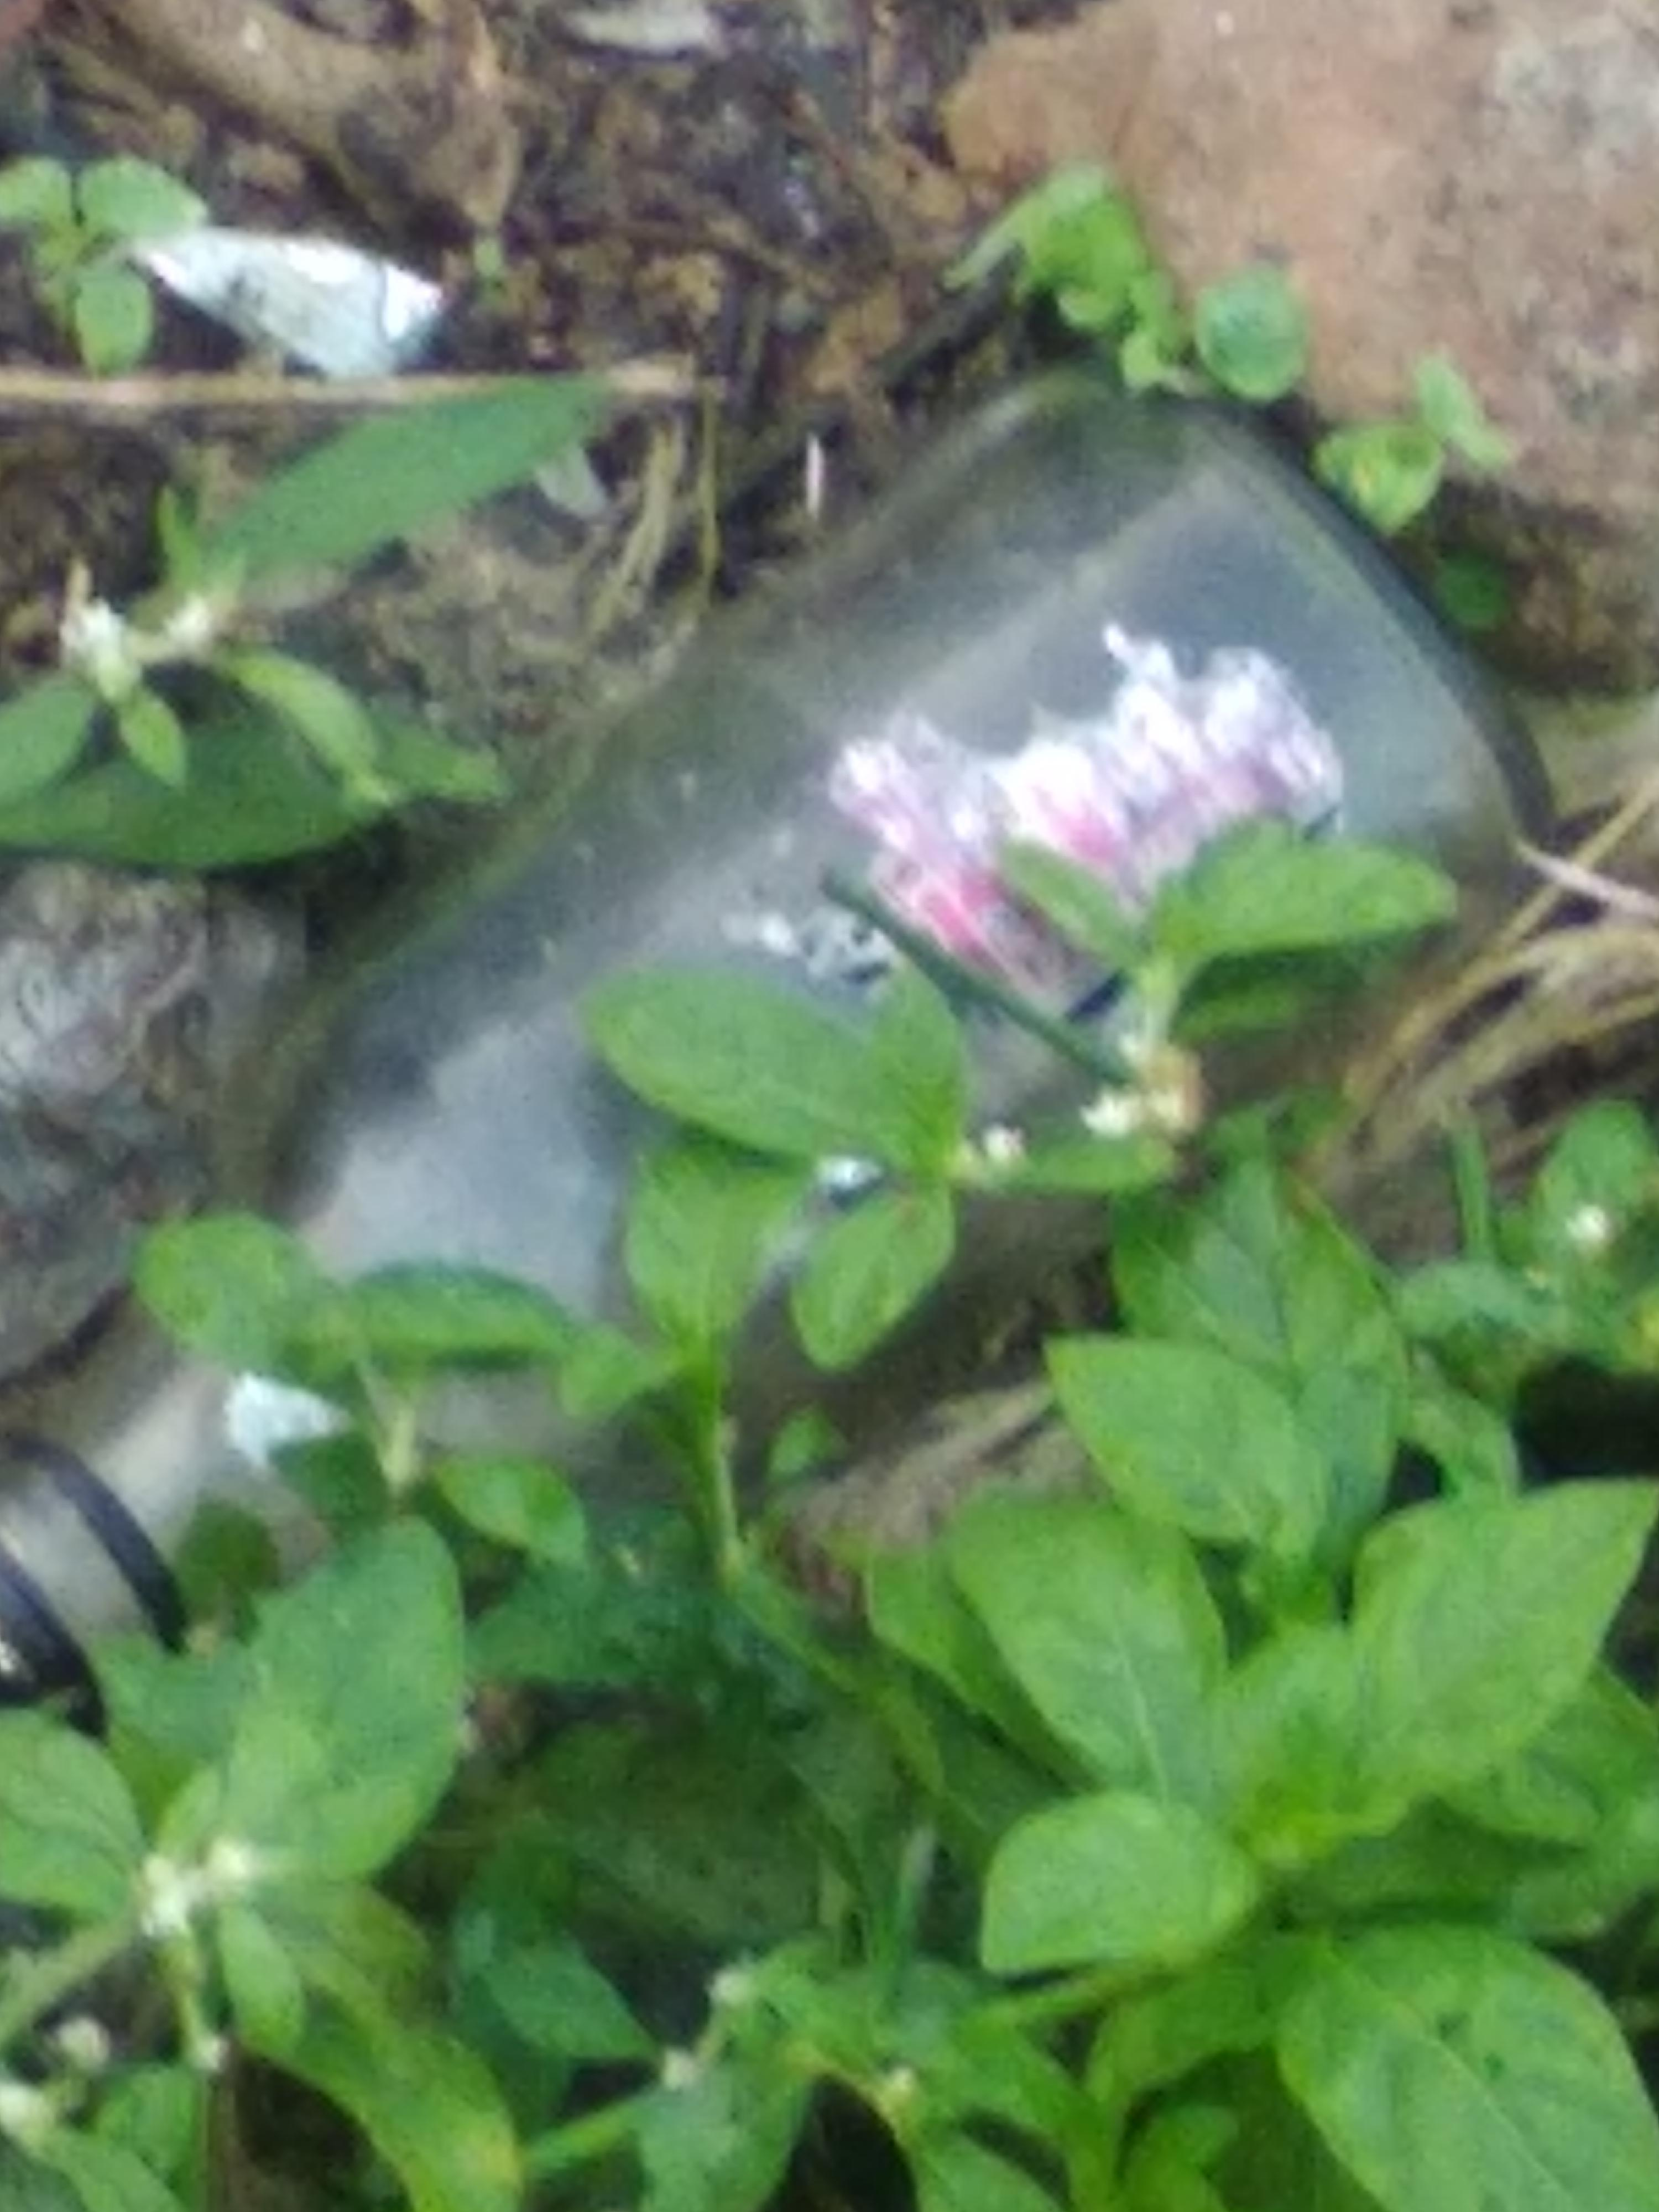trash: (0, 333, 1588, 1808)
